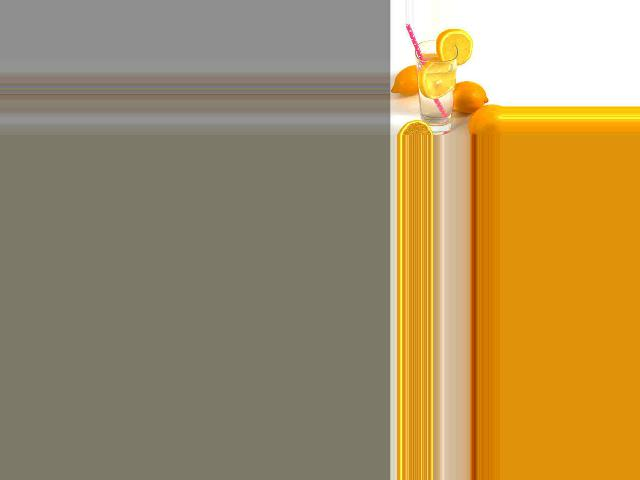lemon: (392, 64, 426, 99)
